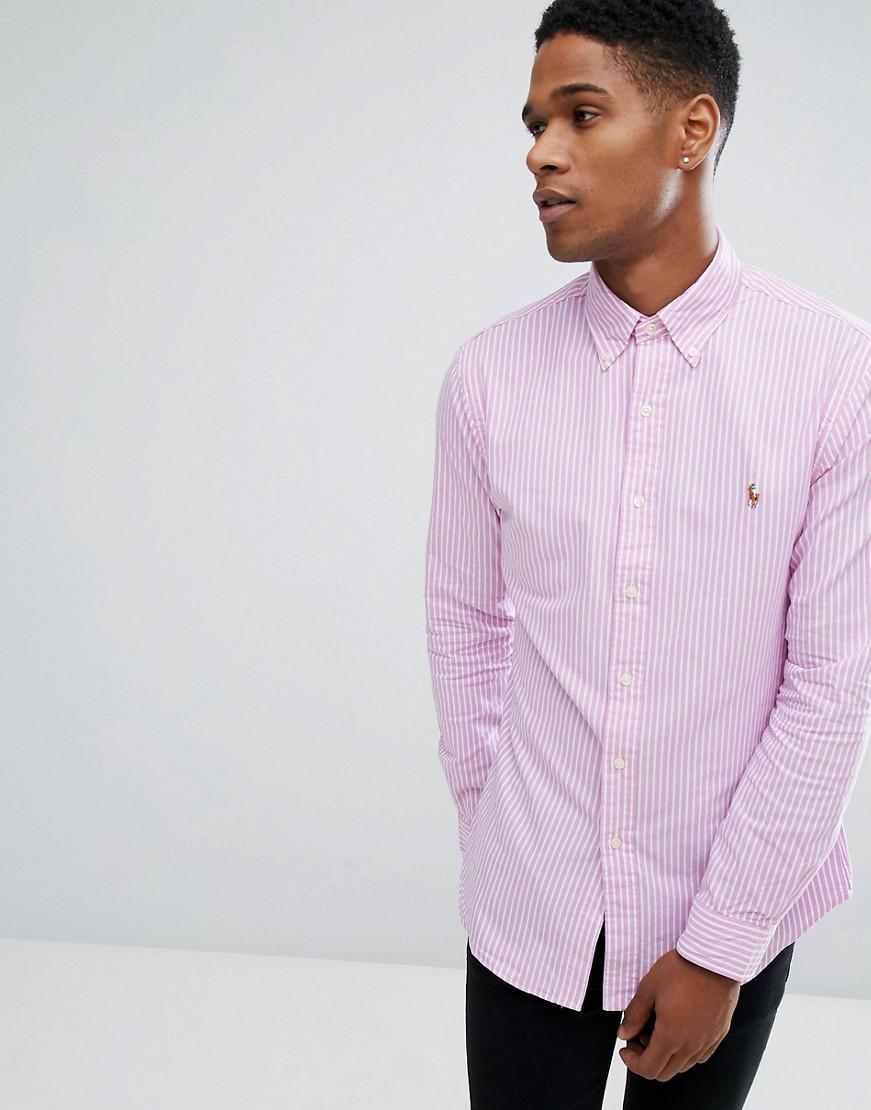teeshirt: (407, 239, 871, 1016)
